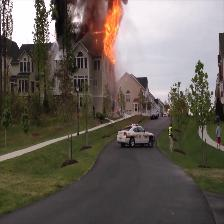fire: (104, 1, 122, 59)
smoke: (54, 0, 102, 39)
